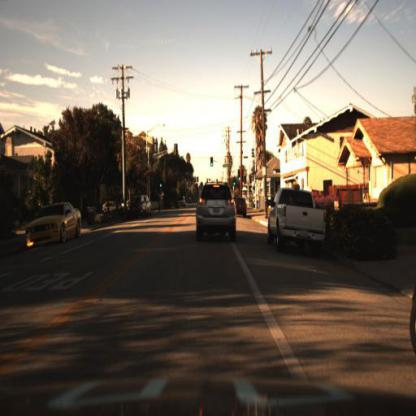car: (259, 181, 333, 262), (16, 196, 89, 259), (190, 175, 243, 245), (232, 194, 253, 223), (126, 193, 147, 221), (100, 198, 127, 218), (175, 189, 189, 212)
trafficLight-Green: (236, 169, 244, 185), (208, 157, 216, 170), (159, 178, 166, 192), (158, 180, 164, 193), (209, 156, 215, 169), (232, 178, 239, 189), (233, 178, 238, 191), (238, 177, 244, 186)
